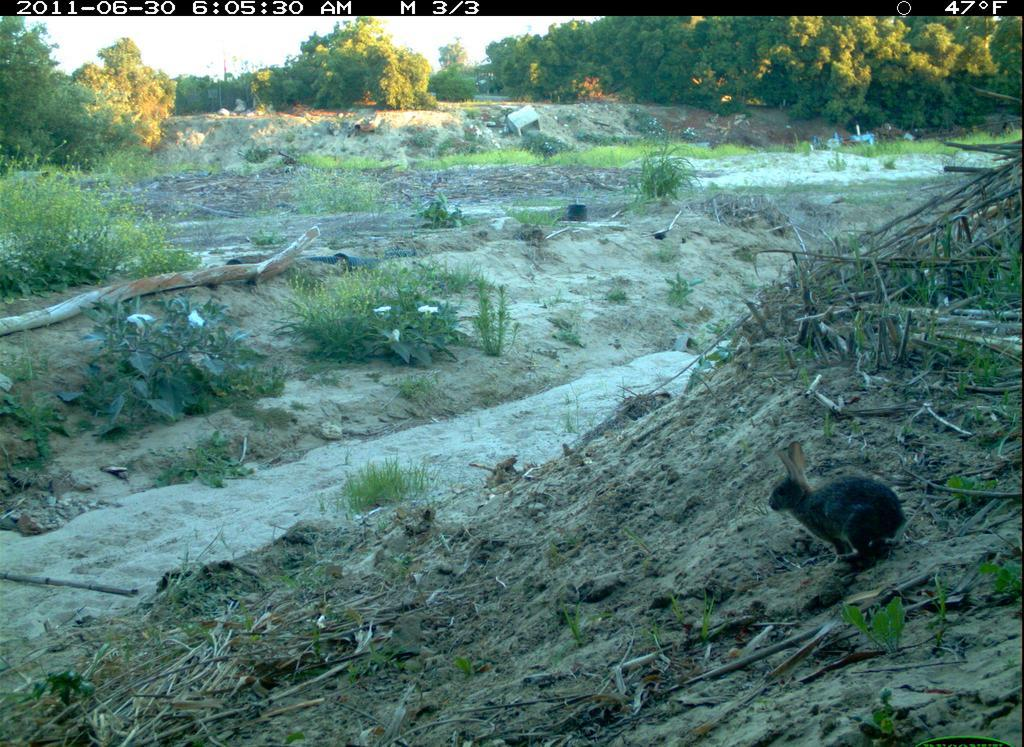rabbit: (752, 428, 913, 574)
